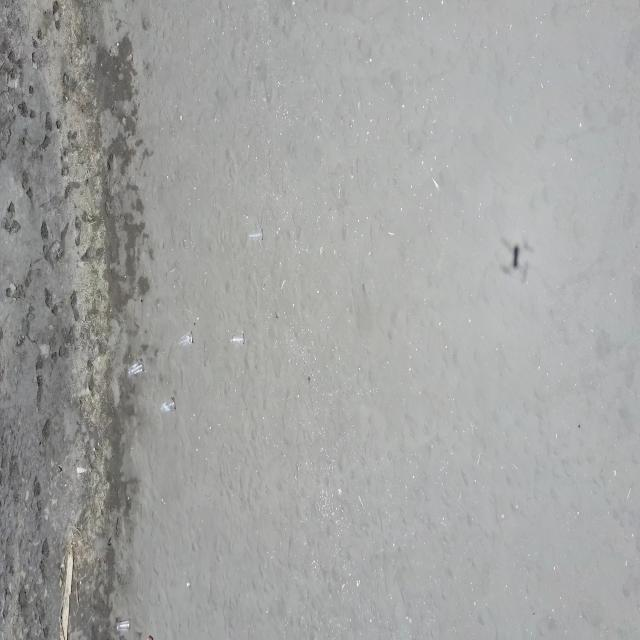takeaway-cup: (128, 359, 146, 376), (160, 398, 177, 414), (180, 332, 194, 348), (248, 229, 264, 242), (116, 619, 131, 632), (232, 333, 246, 346)
